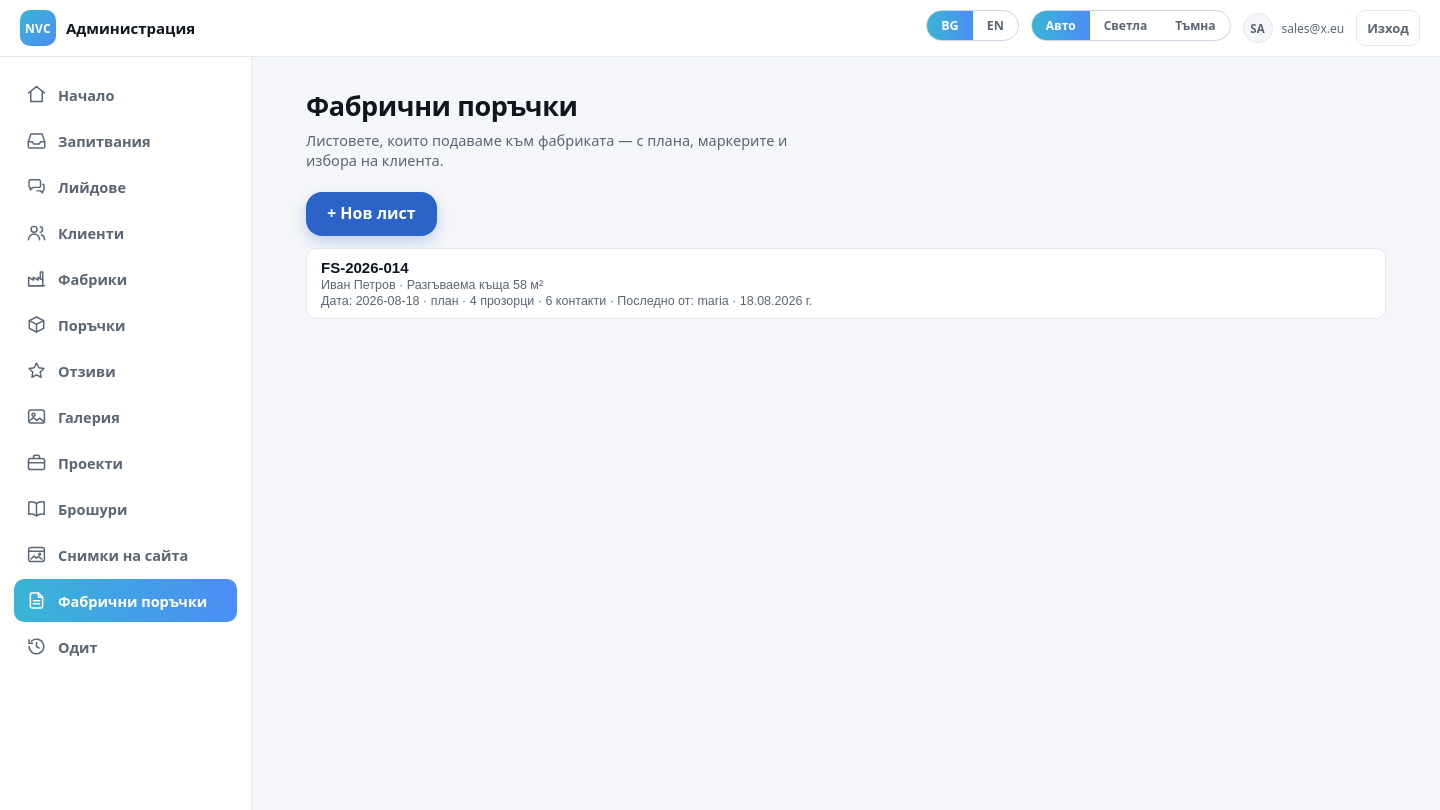
Scenario: AdminFactorySheetsPage › opens a sheet with its markers and specs intact
Click the text "FS-2026-014": [365, 268] box x1=321 y1=259 x2=409 y2=276
(page scrolled)
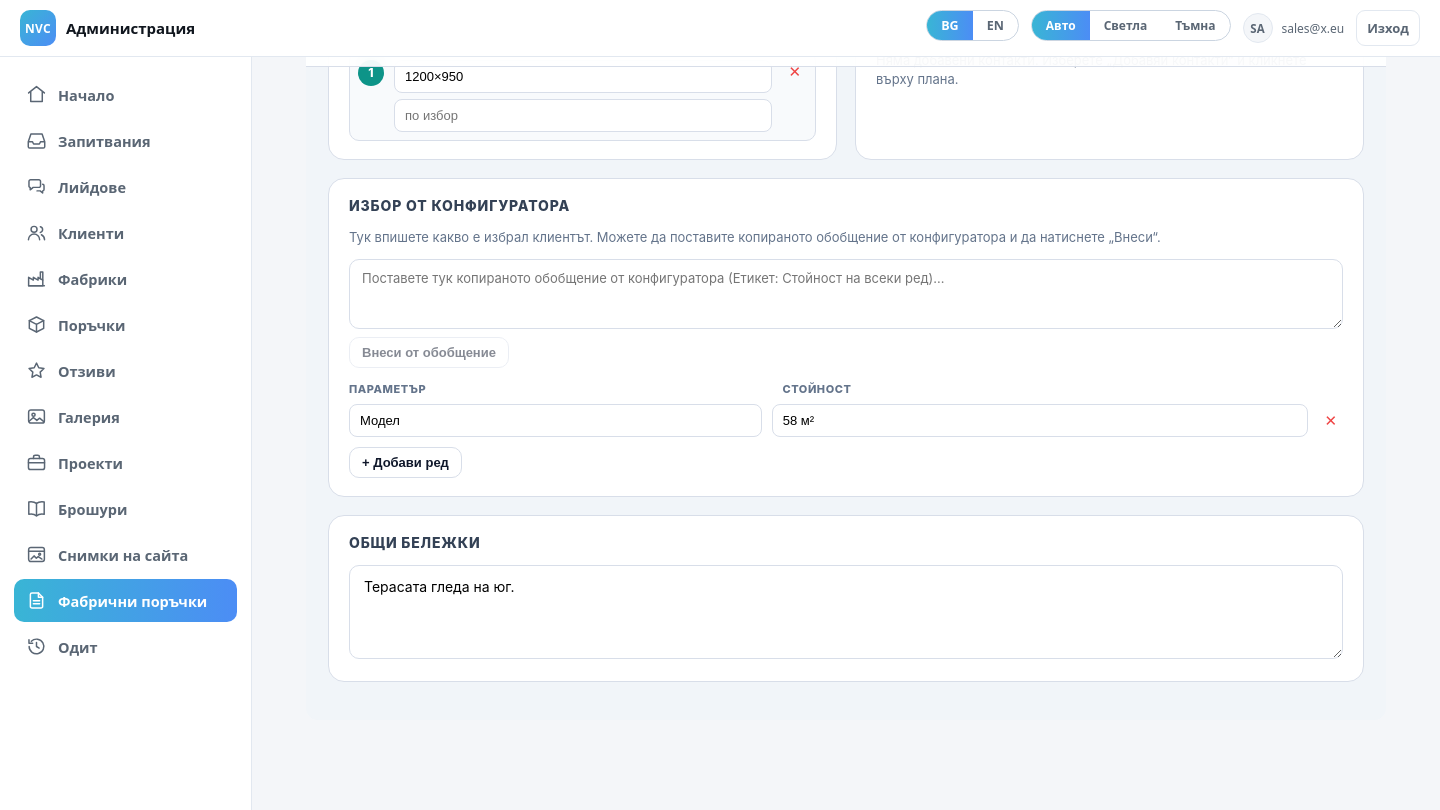
Now the field showing "1200×950" below "Прозорци" is shown, box x1=394 y1=60 x2=772 y2=92
Now the 3rd field showing "58 м²" is shown, box x1=772 y1=404 x2=1308 y2=437
Now the text box showing "Терасата гледа на юг." is shown, box x1=349 y1=565 x2=1343 y2=659
